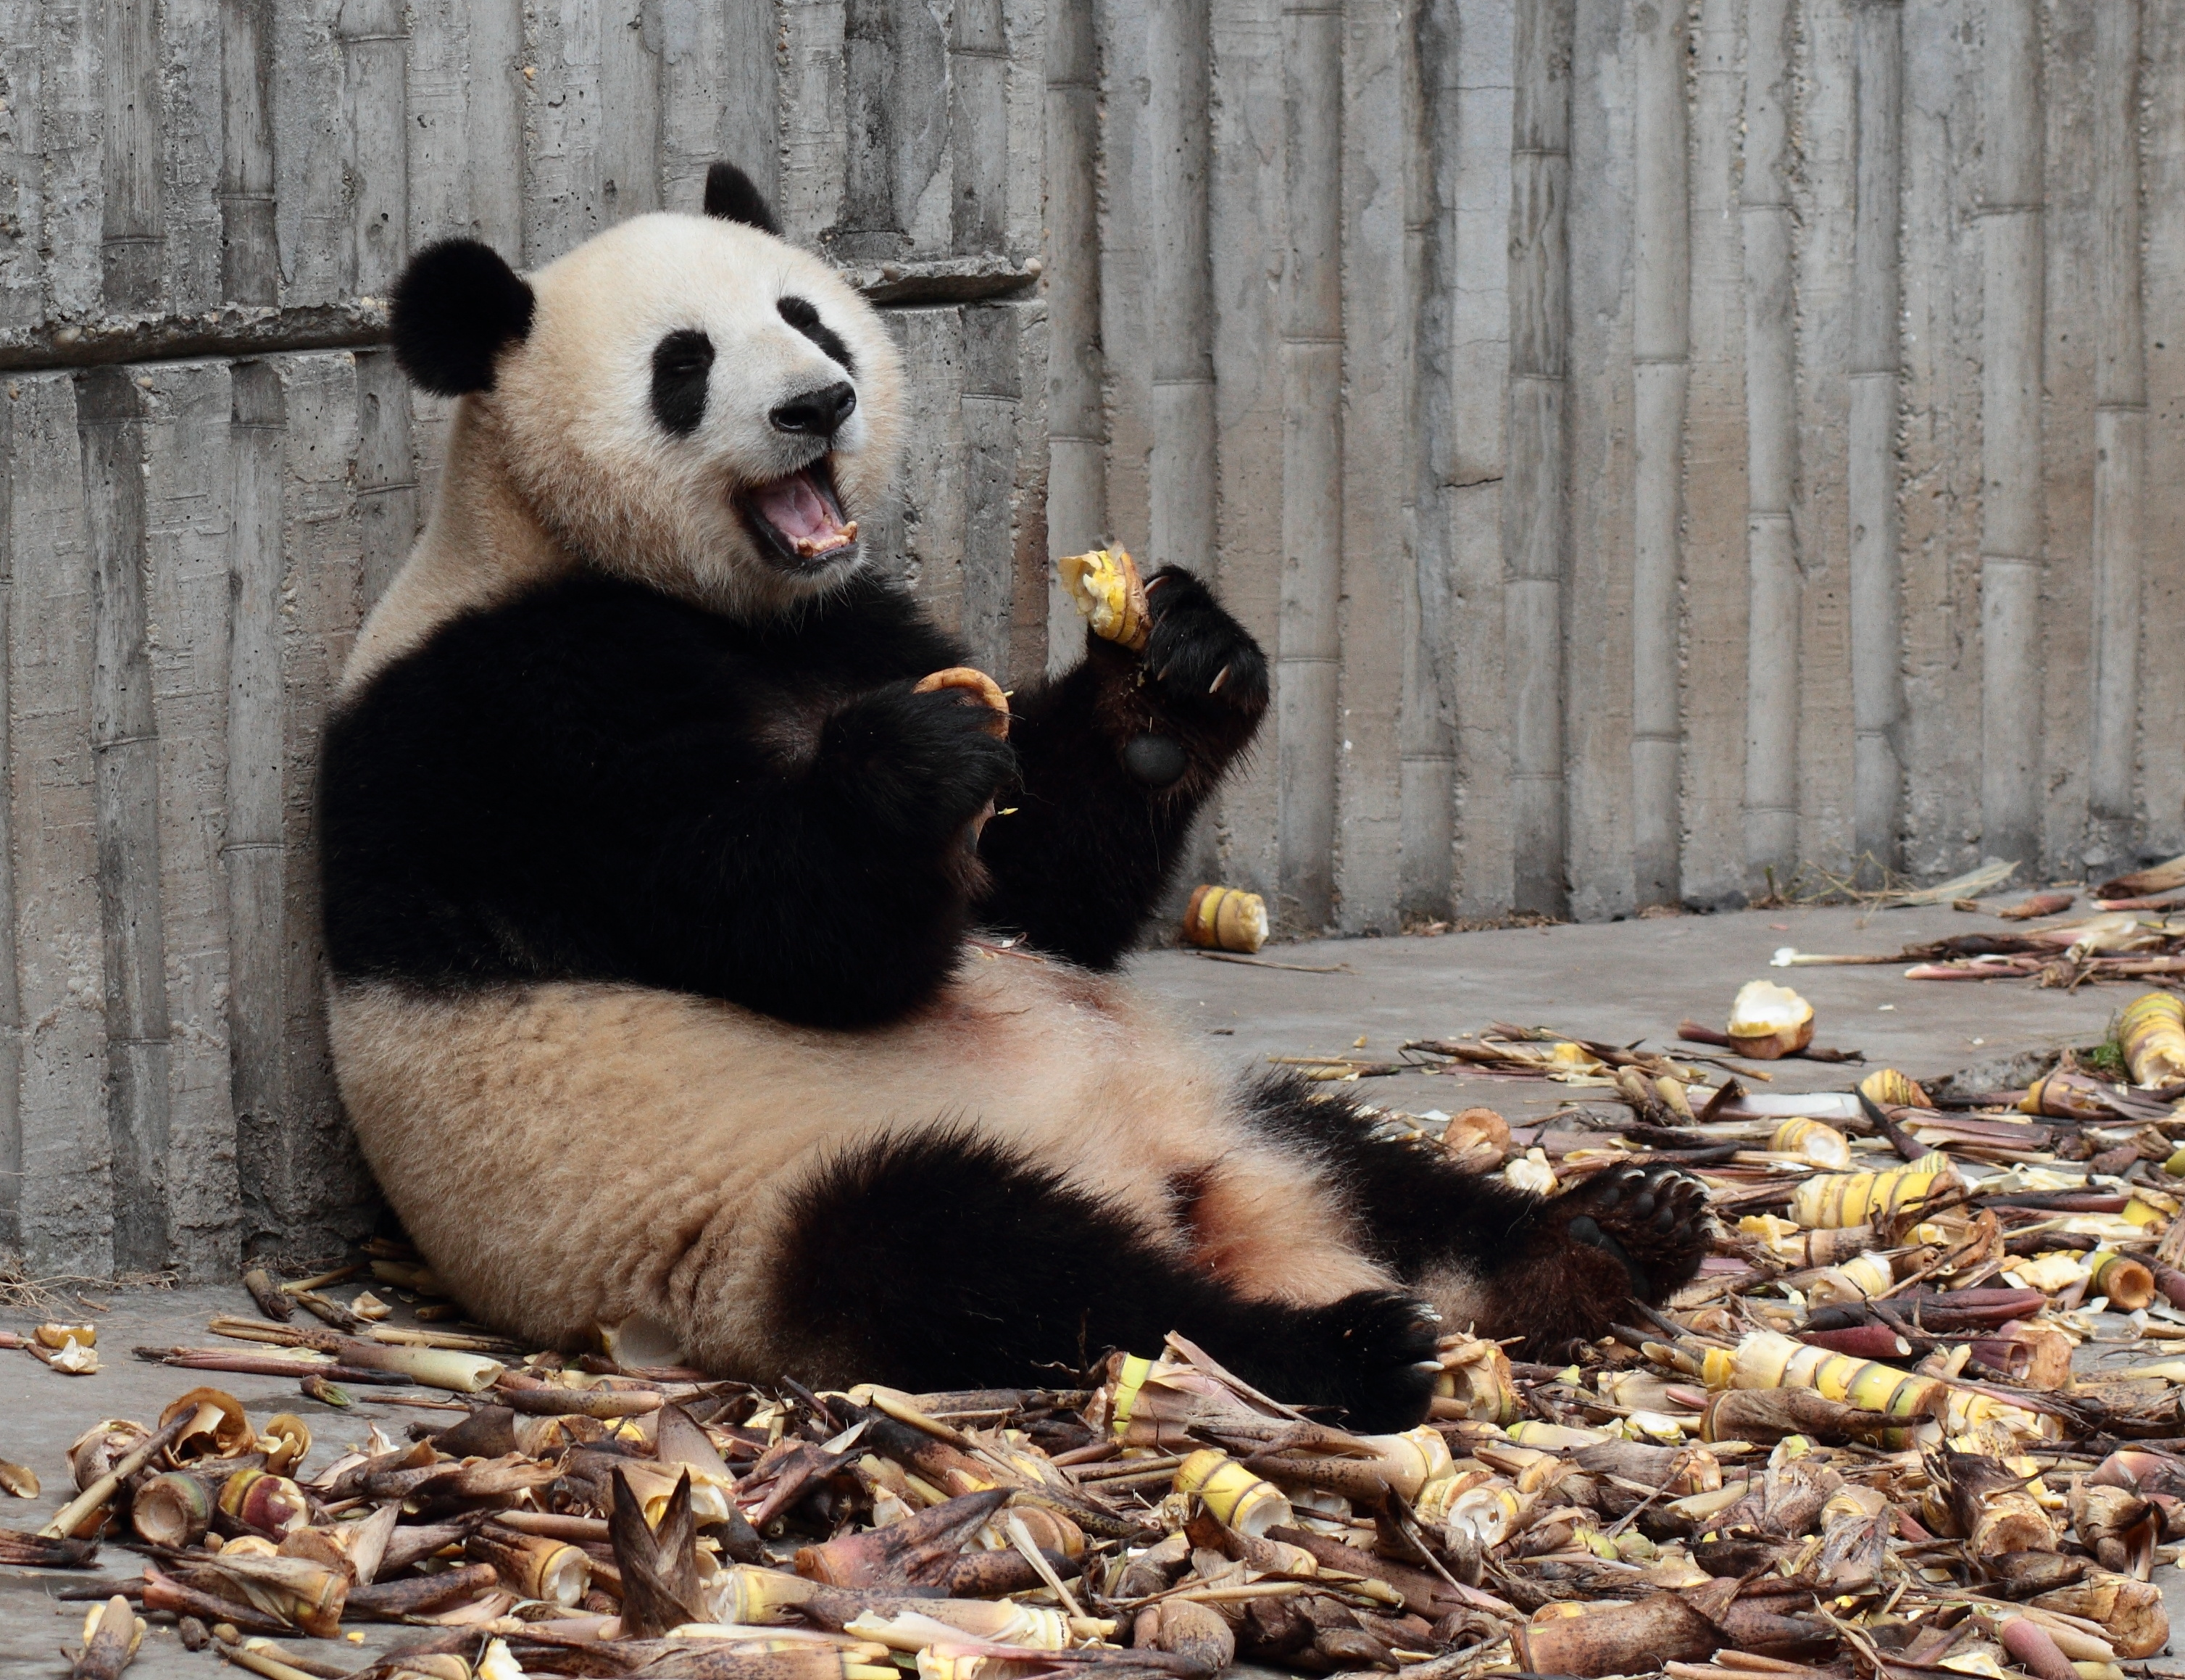panda: (242, 136, 1798, 1445)
